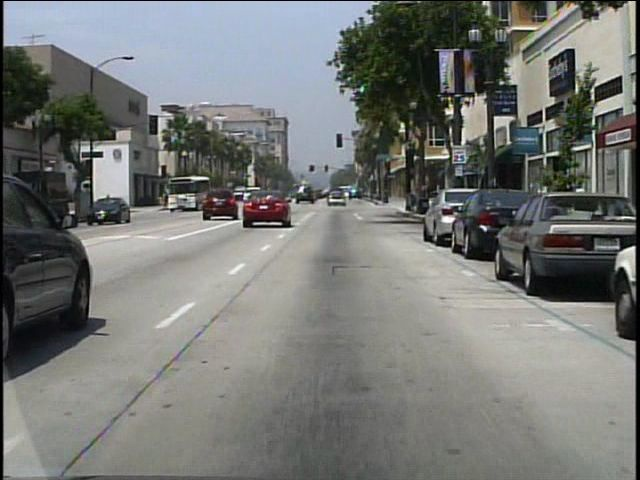person: (106, 194, 114, 216)
